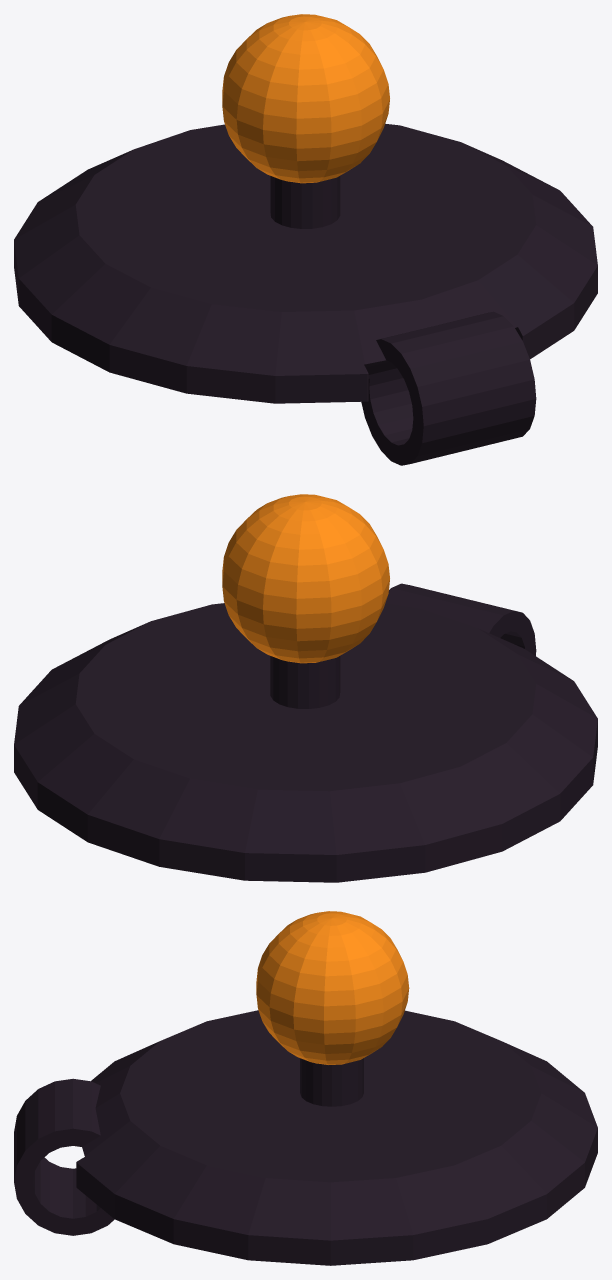
File: BrewingStationPart2.fbx
3 renders of one model, top to bottom at view 1: azimuth 30°, elevation 25°; view 2: azimuth 150°, elevation 25°; view 3: azimuth 270°, elevation 25°, orthographic. The views are drawn at different scales.
Parts seen in each view (by area): view 1: Cylinder.006; view 2: Cylinder.006; view 3: Cylinder.006.
Boxes of the visible parts, x1=… form: Cylinder.006: x1=14, y1=14, x2=597, y2=465; Cylinder.006: x1=14, y1=494, x2=597, y2=882; Cylinder.006: x1=14, y1=911, x2=597, y2=1265.
Size of the model in its own units: 110 by 66.54 by 120.
